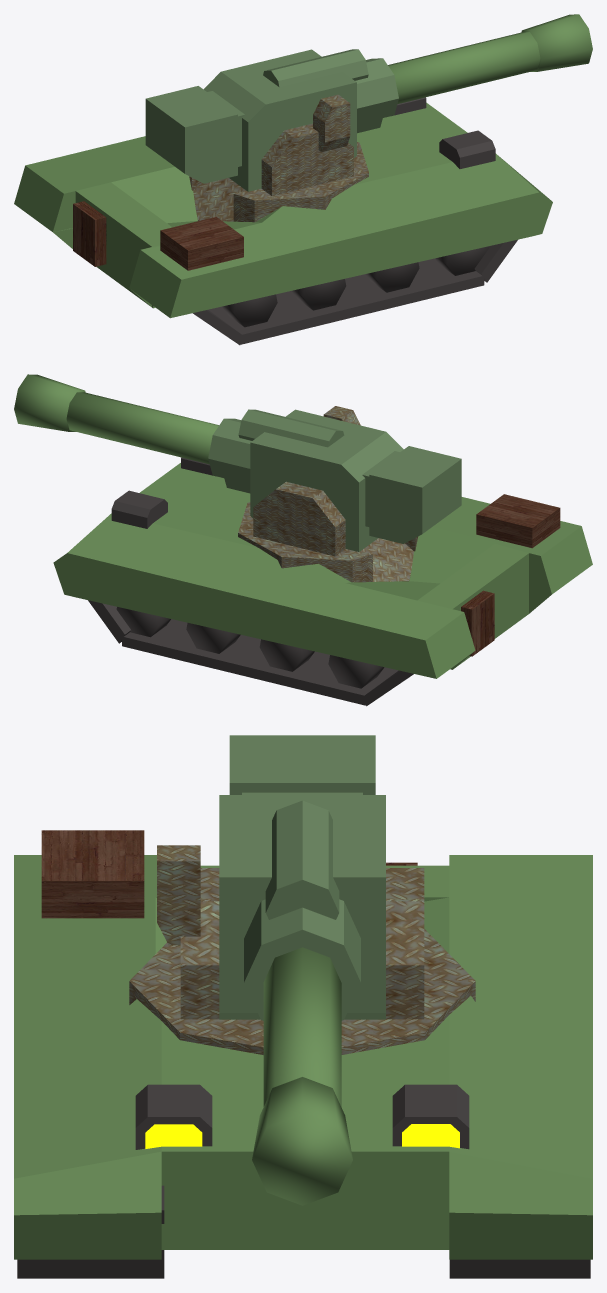
File: TL_mortar.glb
The picture shows the model from 3 angles, top to bottom: view 1: azimuth 30°, elevation 25°; view 2: azimuth 150°, elevation 25°; view 3: azimuth 270°, elevation 25°; orthographic projection. The views are drawn at different scales.
Parts seen in each view (by area): view 1: Cube, Cube.003, Cylinder.010, Cylinder, Cylinder.005, Cube.005, Cube.007, Cube.001; view 2: Cube, Cube.003, Cylinder.010, Cylinder, Cylinder.005, Cube.005, Cube.007, Cube.001; view 3: Cube, Cube.003, Cylinder, Cylinder.005, Cube.007, Cube.005, Cylinder.010.
Boxes of the visible parts, x1,y1,x2,y2 form: Cube: (14,102,552,318); Cube.003: (145,49,398,191); Cylinder.010: (193,239,517,345); Cylinder: (189,94,368,222); Cylinder.005: (388,14,592,103); Cube.005: (160,216,243,270); Cube.007: (391,97,495,168); Cube.001: (73,201,106,266); Cube: (53,463,592,678); Cube.003: (208,409,461,551); Cylinder.010: (88,600,413,706); Cylinder: (238,406,418,582); Cylinder.005: (14,374,218,464); Cube.005: (476,494,560,548); Cube.007: (111,457,215,528); Cube.001: (461,590,494,656); Cube: (14,855,592,1259); Cube.003: (219,735,385,1020); Cylinder: (129,845,475,1054); Cylinder.005: (252,947,352,1205); Cube.007: (135,1084,469,1149); Cube.005: (41,830,144,918); Cylinder.010: (17,1185,590,1278).
Size of the model in its own units: 8.26 by 3.11 by 4.59.
Materials: 6 (2 with a texture image).
